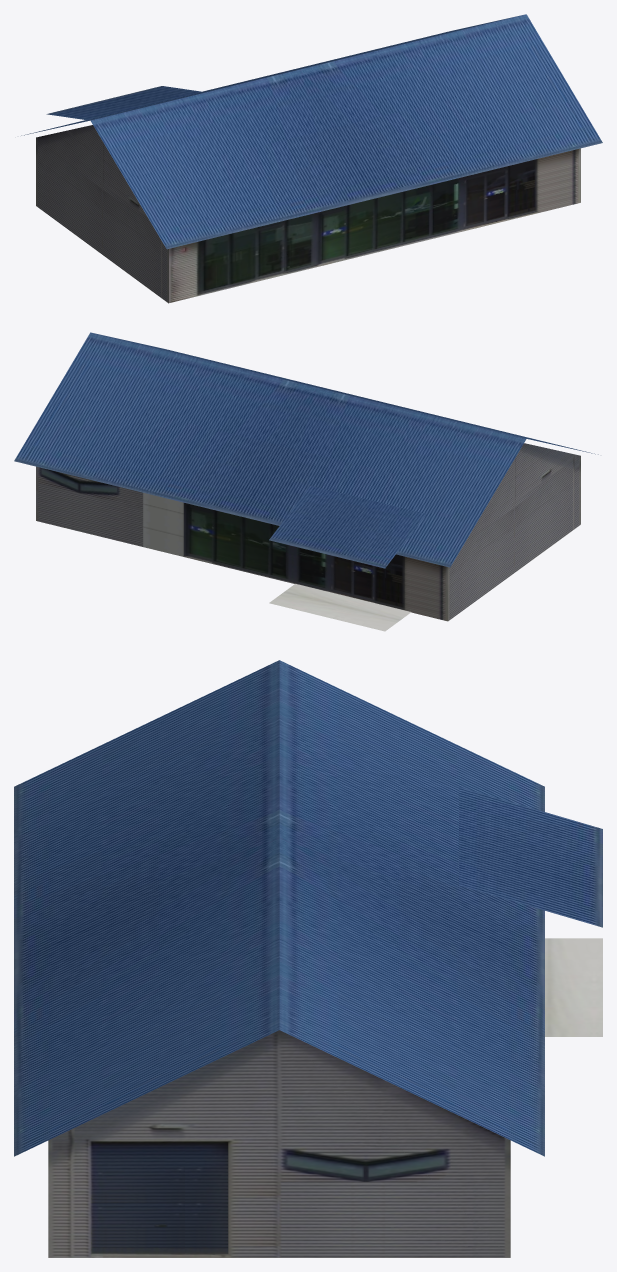
The model's file is terminal-small-09-17x10-cbj_LOD02.gltf.
3 views of the same model, one above another, from view 1: azimuth 30°, elevation 25°; view 2: azimuth 150°, elevation 25°; view 3: azimuth 270°, elevation 25° (orthographic). The views are drawn at different scales.
Visible parts, largest first — view 1: Sketchup02; view 2: Sketchup02; view 3: Sketchup02.
Part boxes in pixels (x1,y1,x2,y2): Sketchup02: [21, 14, 602, 303]; Sketchup02: [14, 332, 598, 631]; Sketchup02: [14, 660, 602, 1257].
Size of the model in its own units: 18 by 5.42 by 12.11.
